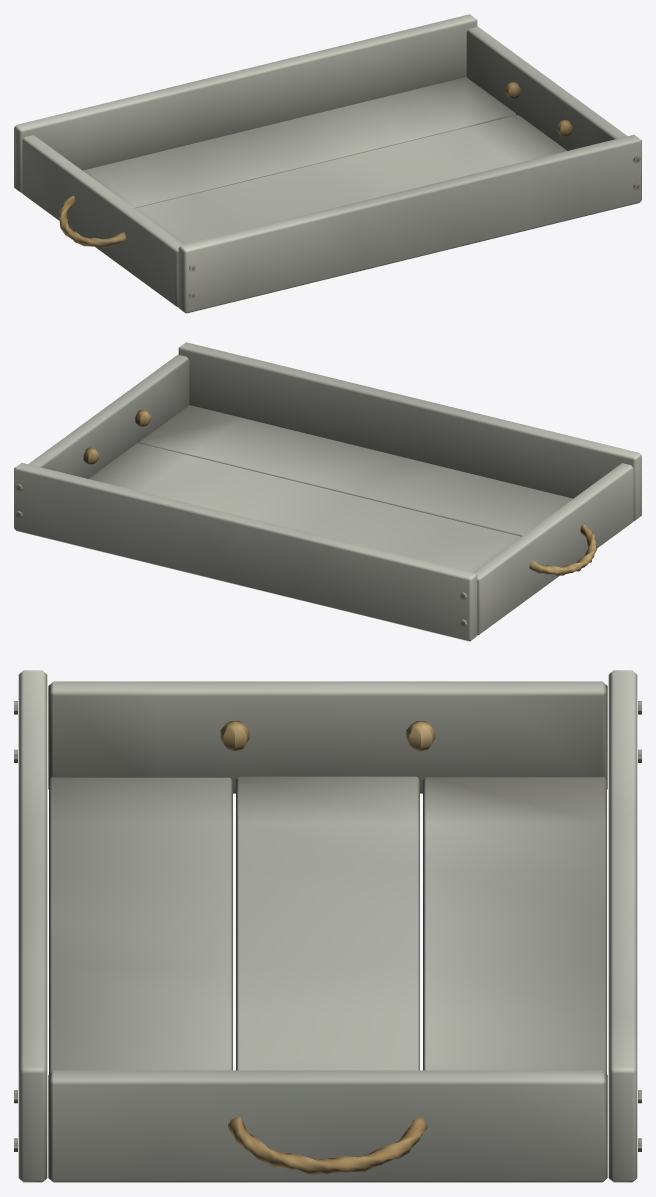
Rendered from cargo-tray.ec33567e.glb.
3 renders of one model, top to bottom at view 1: azimuth 30°, elevation 25°; view 2: azimuth 150°, elevation 25°; view 3: azimuth 270°, elevation 25°, orthographic. The views are drawn at different scales.
Visible parts, largest first — view 1: cargo_tray; view 2: cargo_tray; view 3: cargo_tray.
Part boxes in pixels (x1,y1,x2,y2): cargo_tray: [14, 14, 641, 313]; cargo_tray: [14, 342, 641, 641]; cargo_tray: [14, 670, 641, 1182].
Bounding box in the file's own units: 0.5202 × 0.062 × 0.3044.
